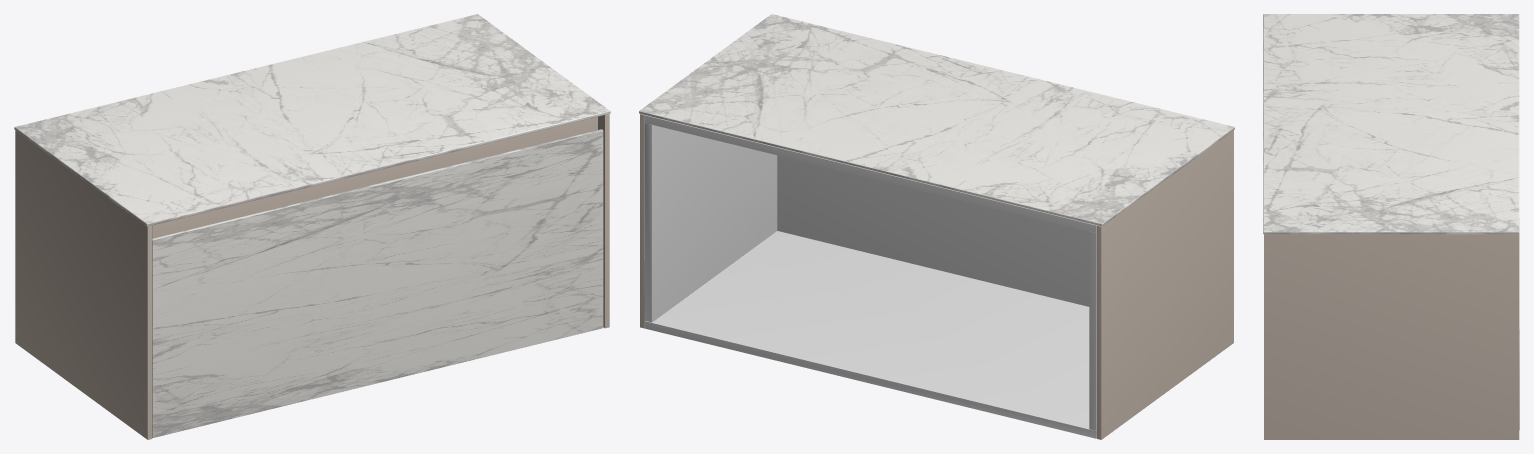
3 views of the same model, side by side, from view 1: azimuth 30°, elevation 25°; view 2: azimuth 150°, elevation 25°; view 3: azimuth 270°, elevation 25° (orthographic). The views are drawn at different scales.
Visible parts, largest first — view 1: EL01; view 2: EL01; view 3: EL01.
Boxes of the visible parts, box(x1,y1,x2,y2) form: EL01: box(14, 14, 610, 439); EL01: box(639, 14, 1234, 439); EL01: box(1263, 14, 1519, 439).
Size of the model in its own units: 1 by 0.446 by 0.4966.
Materials: 4 (1 with a texture image).
